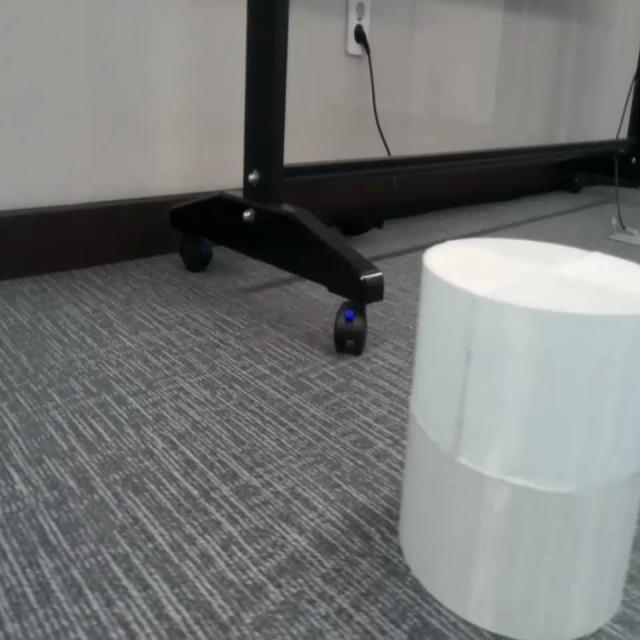cylinder: (398, 234, 640, 640)
